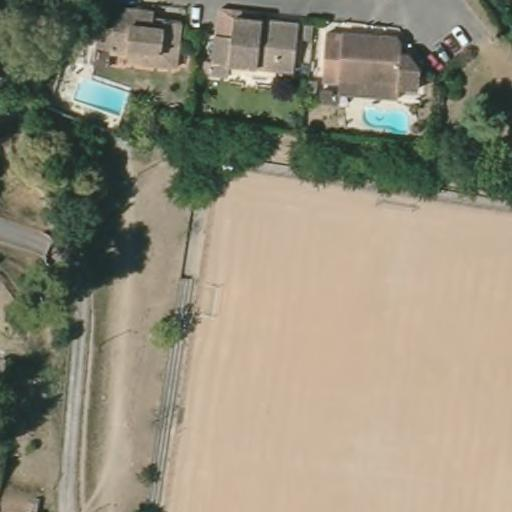pool: (68, 71, 135, 118), (355, 97, 421, 137)
